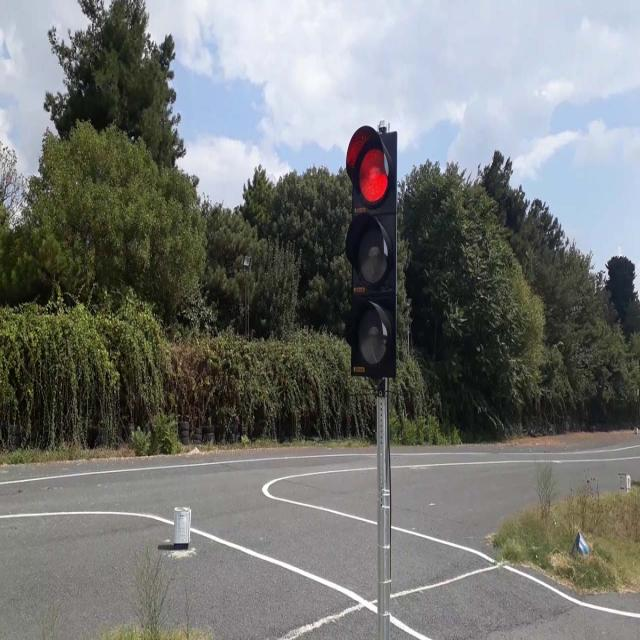kirmizi: (346, 126, 395, 374)
